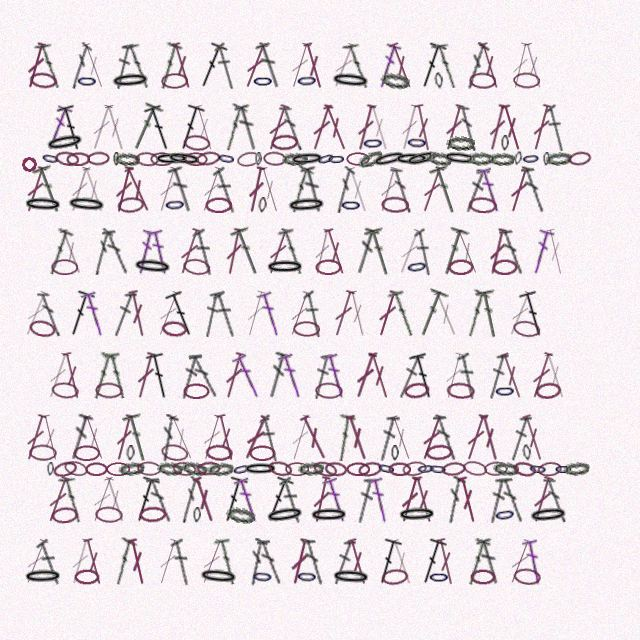chain: (44, 131, 86, 154), (264, 504, 306, 526), (528, 505, 569, 525), (371, 148, 408, 170), (110, 71, 151, 90), (330, 71, 371, 90), (66, 195, 107, 214), (132, 257, 173, 276), (198, 567, 239, 586), (404, 148, 441, 169), (286, 196, 327, 214), (331, 568, 371, 586), (356, 147, 385, 171), (23, 196, 63, 213), (397, 506, 437, 523), (23, 568, 63, 585), (166, 150, 202, 168), (265, 259, 305, 275), (309, 507, 349, 523), (225, 505, 256, 525), (442, 150, 478, 167), (28, 318, 57, 339), (160, 442, 189, 463), (182, 257, 211, 277), (512, 319, 541, 339), (289, 151, 325, 167), (380, 71, 410, 90), (29, 71, 57, 90), (51, 381, 79, 400), (403, 381, 431, 400), (513, 567, 541, 586), (468, 196, 497, 214), (52, 459, 78, 479), (312, 459, 338, 479), (535, 381, 562, 400), (183, 134, 211, 152), (117, 196, 145, 214), (51, 506, 79, 524), (381, 568, 409, 586), (63, 459, 89, 478), (267, 459, 293, 478), (462, 459, 488, 478), (446, 382, 475, 399), (154, 152, 189, 166), (394, 152, 429, 166), (243, 462, 278, 476), (161, 320, 188, 338), (381, 196, 409, 213), (95, 382, 123, 399), (315, 382, 343, 399), (29, 444, 57, 461), (205, 444, 233, 461), (425, 444, 453, 461), (95, 506, 123, 523), (236, 150, 262, 168), (357, 460, 383, 478), (446, 135, 475, 151), (469, 72, 496, 89), (513, 72, 540, 89), (271, 134, 298, 151), (426, 150, 453, 167), (545, 150, 572, 167), (118, 460, 145, 477), (181, 460, 208, 477), (563, 460, 590, 477), (139, 506, 166, 523), (405, 257, 429, 276), (493, 505, 517, 524), (512, 460, 537, 478), (54, 150, 80, 167), (195, 150, 221, 167), (161, 73, 188, 89), (205, 197, 232, 213), (51, 259, 78, 275), (315, 259, 342, 275), (293, 321, 320, 337), (183, 383, 210, 399), (73, 445, 100, 461), (249, 445, 276, 461), (207, 461, 234, 477), (402, 460, 427, 477), (315, 149, 337, 168), (448, 259, 474, 275), (492, 259, 518, 275), (74, 569, 100, 585), (470, 569, 496, 585), (568, 150, 592, 167), (172, 461, 197, 477), (441, 461, 466, 477), (537, 461, 562, 477), (251, 568, 274, 585), (467, 151, 493, 166), (157, 461, 183, 476), (298, 461, 324, 476), (493, 461, 519, 476), (135, 151, 159, 167), (324, 461, 348, 477), (231, 460, 252, 478), (196, 461, 221, 476), (296, 72, 318, 89), (406, 134, 428, 151), (164, 196, 186, 213), (296, 568, 318, 585), (114, 152, 140, 166), (282, 152, 308, 166), (489, 152, 515, 166), (137, 461, 161, 476), (484, 461, 508, 476), (40, 150, 61, 167), (216, 150, 237, 167), (376, 460, 397, 477), (76, 73, 98, 89), (252, 73, 274, 89), (362, 135, 384, 151), (340, 197, 362, 213), (494, 383, 516, 399), (428, 569, 450, 585), (87, 151, 110, 166), (263, 151, 286, 166), (66, 152, 90, 166), (150, 152, 174, 166), (184, 152, 208, 166), (346, 152, 370, 166), (106, 462, 130, 476), (285, 462, 309, 476), (346, 462, 370, 476), (85, 462, 108, 476), (388, 462, 411, 476), (428, 461, 448, 477), (528, 461, 548, 477), (521, 151, 541, 166), (416, 461, 436, 476), (327, 152, 346, 166), (554, 462, 573, 476), (434, 72, 444, 89), (522, 444, 532, 461), (513, 151, 523, 166), (258, 197, 267, 213), (126, 445, 135, 461), (501, 135, 509, 151), (391, 445, 399, 461), (193, 507, 201, 523), (113, 152, 120, 166), (255, 152, 262, 166), (543, 152, 550, 166), (47, 462, 54, 476)
double: (127, 102, 164, 153), (32, 164, 67, 215), (230, 226, 265, 277), (414, 288, 449, 339), (194, 41, 229, 91), (164, 289, 199, 339), (261, 475, 295, 525), (121, 165, 155, 214), (297, 413, 331, 462), (415, 41, 448, 91), (143, 103, 176, 153), (429, 165, 462, 215), (437, 227, 470, 277), (165, 413, 198, 462), (239, 413, 272, 462), (174, 103, 206, 153), (364, 227, 396, 277), (64, 289, 96, 339), (416, 537, 448, 587), (231, 352, 264, 400), (122, 41, 154, 90), (328, 41, 360, 90), (320, 103, 352, 152), (42, 227, 74, 276), (20, 289, 52, 338), (152, 289, 184, 338), (430, 289, 462, 338), (504, 289, 536, 338), (56, 103, 87, 153), (518, 289, 549, 339), (408, 351, 439, 401), (122, 413, 153, 463), (130, 475, 161, 525), (218, 475, 249, 525), (34, 41, 65, 90), (78, 41, 109, 90), (240, 41, 271, 90), (342, 41, 373, 90), (386, 41, 417, 90), (56, 227, 87, 276), (394, 227, 425, 276), (452, 227, 483, 276), (86, 351, 117, 400), (20, 537, 51, 586), (196, 537, 227, 586), (504, 537, 535, 586), (373, 537, 403, 587), (153, 41, 183, 90), (255, 41, 285, 90), (431, 41, 461, 90), (43, 103, 73, 152), (219, 103, 249, 152), (79, 165, 109, 214), (167, 165, 197, 214), (285, 165, 315, 214), (343, 165, 373, 214), (417, 165, 447, 214), (263, 227, 293, 276), (387, 289, 417, 338), (461, 289, 491, 338), (43, 351, 73, 400), (497, 351, 527, 400), (79, 413, 109, 462), (417, 413, 447, 462), (461, 413, 491, 462), (43, 475, 73, 524), (87, 475, 117, 524), (189, 475, 219, 524), (387, 537, 417, 586), (461, 537, 491, 586), (475, 289, 504, 339), (145, 351, 174, 401), (189, 352, 219, 400), (285, 41, 314, 90), (87, 103, 116, 152), (101, 103, 130, 152), (263, 103, 292, 152), (307, 103, 336, 152), (365, 103, 394, 152), (21, 165, 50, 214), (65, 165, 94, 214), (197, 165, 226, 214), (505, 165, 534, 214), (175, 227, 204, 276), (277, 227, 306, 276), (321, 227, 350, 276), (285, 289, 314, 338), (329, 289, 358, 338), (373, 289, 402, 338), (277, 351, 306, 400), (351, 351, 380, 400), (365, 351, 394, 400), (527, 351, 556, 400), (541, 351, 570, 400), (21, 413, 50, 462), (197, 413, 226, 462), (343, 413, 372, 462), (387, 413, 416, 462), (519, 413, 548, 462), (101, 475, 130, 524), (233, 475, 262, 524), (109, 537, 138, 586), (153, 537, 182, 586), (461, 42, 490, 90), (35, 538, 64, 586), (22, 41, 50, 90), (168, 41, 196, 90), (300, 41, 328, 90), (374, 41, 402, 90), (476, 41, 504, 90), (190, 103, 218, 152), (234, 103, 262, 152), (440, 103, 468, 152), (498, 103, 526, 152), (256, 165, 284, 214), (476, 165, 504, 214), (352, 227, 380, 276), (80, 289, 108, 338), (256, 289, 284, 338), (220, 351, 248, 400), (66, 413, 94, 462), (286, 413, 314, 462), (58, 475, 86, 524), (322, 475, 350, 524), (396, 475, 424, 524), (528, 475, 556, 524), (66, 537, 94, 586), (344, 537, 372, 586), (476, 537, 504, 586), (462, 166, 490, 214), (102, 228, 130, 276), (396, 352, 424, 400), (520, 41, 547, 90), (352, 103, 379, 152), (396, 103, 423, 152), (528, 103, 555, 152), (154, 165, 181, 214), (300, 165, 327, 214), (528, 227, 555, 276), (242, 289, 269, 338), (132, 351, 159, 400), (264, 351, 291, 400), (322, 351, 349, 400), (440, 351, 467, 400), (410, 475, 437, 524), (80, 537, 107, 586), (212, 166, 239, 214), (212, 290, 239, 338), (146, 476, 173, 524), (278, 476, 305, 524), (507, 41, 533, 90), (111, 165, 137, 214), (375, 165, 401, 214), (59, 351, 85, 400), (103, 351, 129, 400), (37, 413, 63, 462), (111, 413, 137, 462), (213, 413, 239, 462), (477, 413, 503, 462), (455, 475, 481, 524), (213, 537, 239, 586), (287, 537, 313, 586), (433, 537, 459, 586), (67, 42, 93, 90), (279, 104, 305, 152), (499, 228, 525, 276), (37, 290, 63, 338), (111, 290, 137, 338), (499, 476, 525, 524), (543, 476, 569, 524), (257, 538, 283, 586), (411, 103, 436, 152), (485, 103, 510, 152), (133, 227, 158, 276), (147, 227, 172, 276), (485, 227, 510, 276), (543, 227, 568, 276), (125, 289, 150, 338), (345, 289, 370, 338), (331, 413, 356, 462), (309, 475, 334, 524), (367, 475, 392, 524), (125, 537, 150, 586), (213, 42, 238, 90), (521, 166, 546, 214), (433, 414, 458, 462), (177, 476, 202, 524), (331, 538, 356, 586), (244, 165, 268, 214), (222, 227, 246, 276), (310, 227, 334, 276), (544, 104, 568, 152), (332, 166, 356, 214), (390, 166, 414, 214), (90, 228, 114, 276), (192, 228, 216, 276), (178, 352, 202, 400), (258, 414, 282, 462), (376, 414, 400, 462), (508, 414, 532, 462), (442, 476, 466, 524), (244, 538, 268, 586), (522, 537, 545, 586), (302, 290, 325, 338), (456, 352, 479, 400), (486, 352, 509, 400), (156, 414, 179, 462), (354, 476, 377, 524), (486, 476, 509, 524), (170, 538, 193, 586), (302, 538, 325, 586), (457, 104, 479, 152), (413, 228, 435, 276), (311, 352, 333, 400), (113, 42, 134, 90), (202, 290, 222, 338)
noise: (20, 155, 38, 173)
